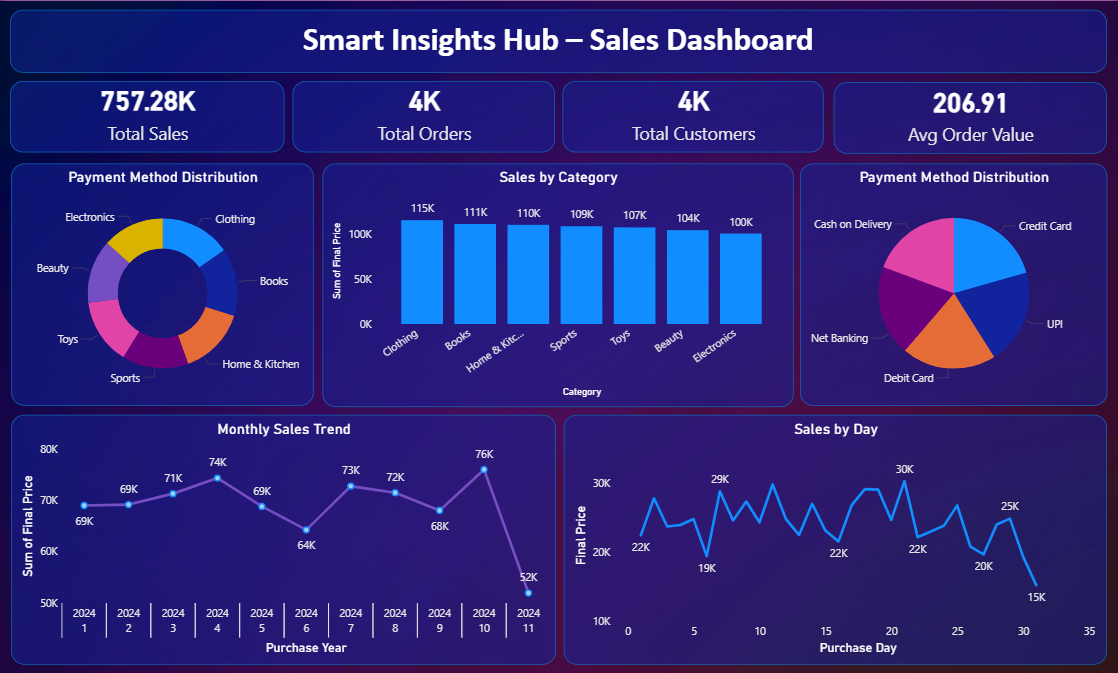

Layout of this report page (visuals, bound fields, positions):
{"tool":"powerbi","page":{"name":"Page 1","canvas":[1280,768],"ordinal":0},"visuals":[{"type":"columnChart","title":"Sales by Category","fields":{"Category":["processed_data.Category"],"Y":["Sum(processed_data.Final_Price)"]},"box":[368,185,538,278],"z":1000},{"type":"lineChart","title":"Monthly Sales Trend","fields":{"Y":["Sum(processed_data.Final_Price)"],"Category":["processed_data.Purchase_Month","processed_data.Purchase_Year"]},"box":[13.3,473.3,622.2,285.6],"z":2000},{"type":"pieChart","title":"Payment Method Distribution","fields":{"Category":["processed_data.Payment_Method"],"Y":["Sum(processed_data.Final_Price)"]},"box":[914.3,185.7,351.4,277.1],"z":3000},{"type":"textbox","box":[11.7,10,1253.3,71.7],"z":6000},{"type":"textbox","title":"757.28K","box":[11.7,91.7,313.3,81.7],"z":6001},{"type":"textbox","title":"4K","box":[335,91.7,300,81.7],"z":6002},{"type":"textbox","title":"4K","box":[643.3,91.7,298.3,81.7],"z":6003},{"type":"textbox","title":"206.91","box":[953.3,93.3,311.7,81.7],"z":6004},{"type":"lineChart","title":"Sales by Day","fields":{"Category":["processed_data.Purchase_Day"],"Y":["Sum(processed_data.Final_Price)"]},"box":[644.4,473.3,621.1,285.6],"z":6006},{"type":"donutChart","title":"Payment Method Distribution","fields":{"Category":["processed_data.Category"],"Y":["Sum(processed_data.Final_Price)"]},"box":[12.9,185.7,345.7,277.1],"z":6007}]}

Visuals, with their boxes in screenshot pixels (x1, y1, x2, y2), scaled from the page's 1280x768 canvas onto the 1118x673 screenshot:
"Sales by Category" columnChart: 321,162,791,406
"Monthly Sales Trend" lineChart: 12,415,555,665
"Payment Method Distribution" pieChart: 799,163,1106,406
textbox: 10,9,1105,72
"757.28K" textbox: 10,80,284,152
"4K" textbox: 293,80,555,152
"4K" textbox: 562,80,822,152
"206.91" textbox: 833,82,1105,153
"Sales by Day" lineChart: 563,415,1105,665
"Payment Method Distribution" donutChart: 11,163,313,406
